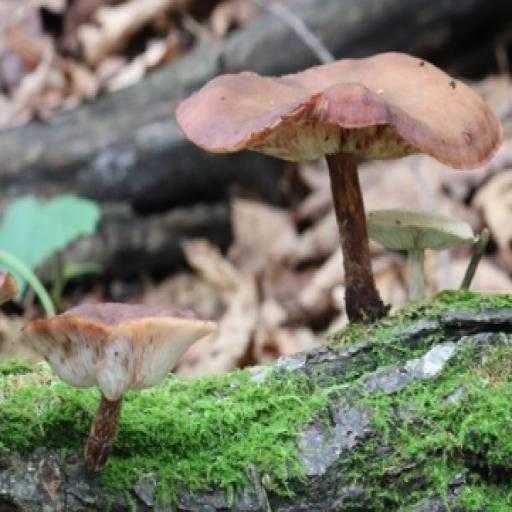Shiitake Mushroom: (177, 0, 512, 323), (0, 248, 206, 464)
